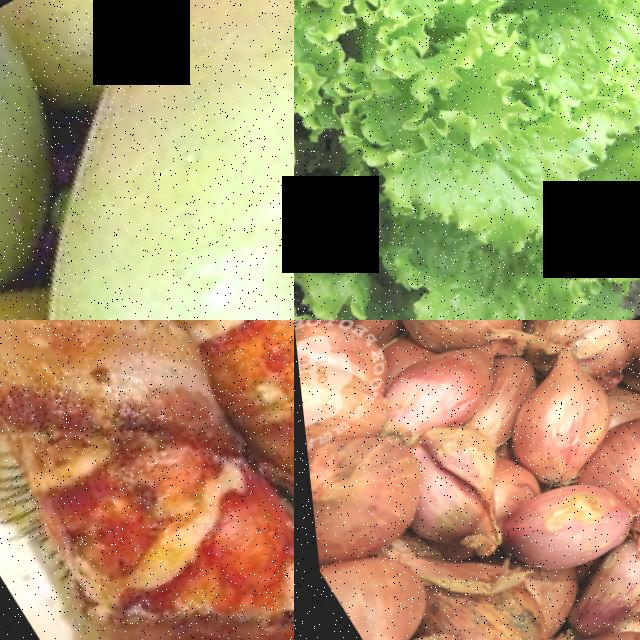lettuce: (294, 0, 640, 320)
mango: (0, 0, 294, 320)
onion: (298, 407, 448, 579), (479, 462, 639, 596), (486, 361, 630, 485), (309, 530, 448, 640), (564, 401, 640, 538), (369, 320, 534, 374), (521, 320, 640, 389)
